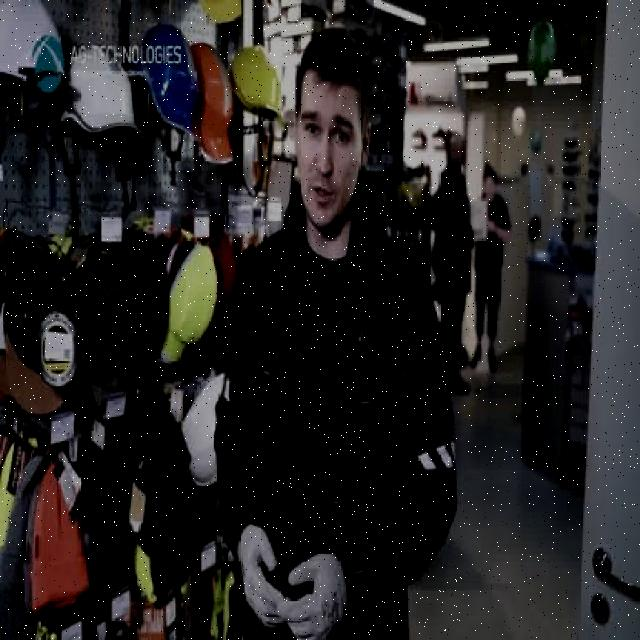Gloves: (283, 543, 351, 639), (237, 523, 286, 640)
Helmet: (132, 21, 200, 140), (55, 50, 140, 144), (0, 0, 69, 89), (186, 44, 232, 168), (228, 44, 282, 118)
